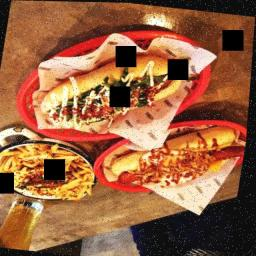hotdog: (32, 42, 190, 142), (116, 114, 250, 202)
